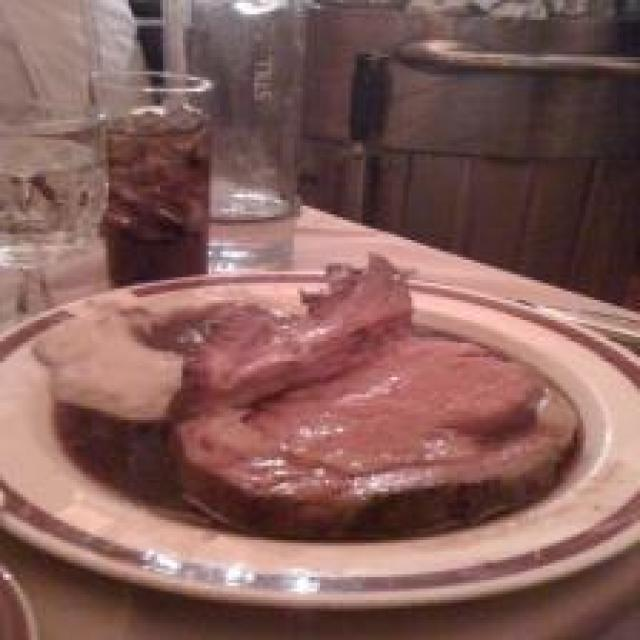Rib: (130, 256, 570, 530)
